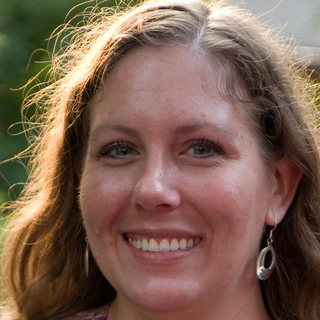eye: (176, 138, 227, 163), (96, 139, 144, 164)
